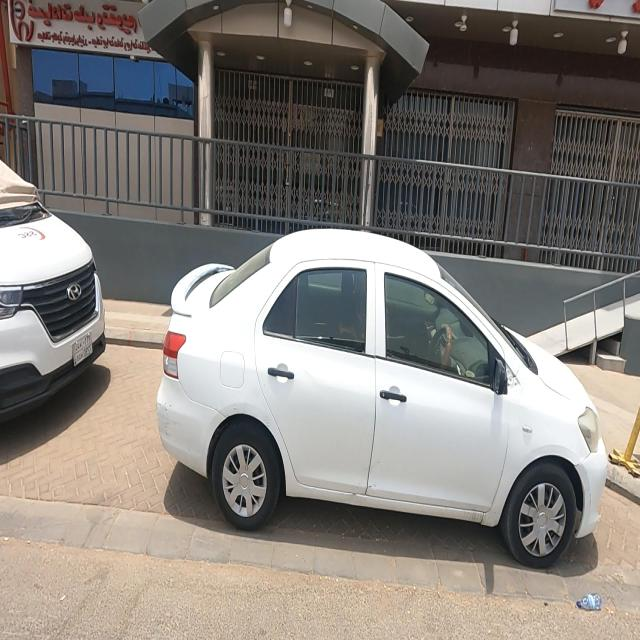debris: (556, 569, 633, 633)
